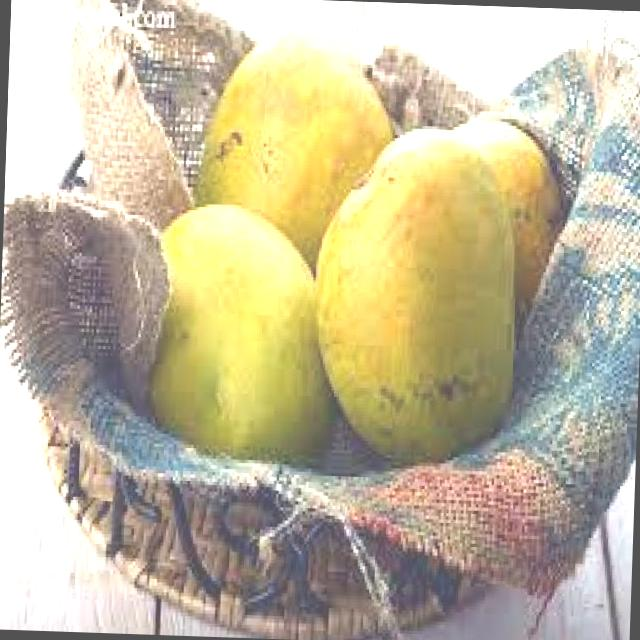Mango: (306, 122, 524, 466), (189, 15, 396, 273), (146, 198, 338, 462), (439, 112, 569, 304)
